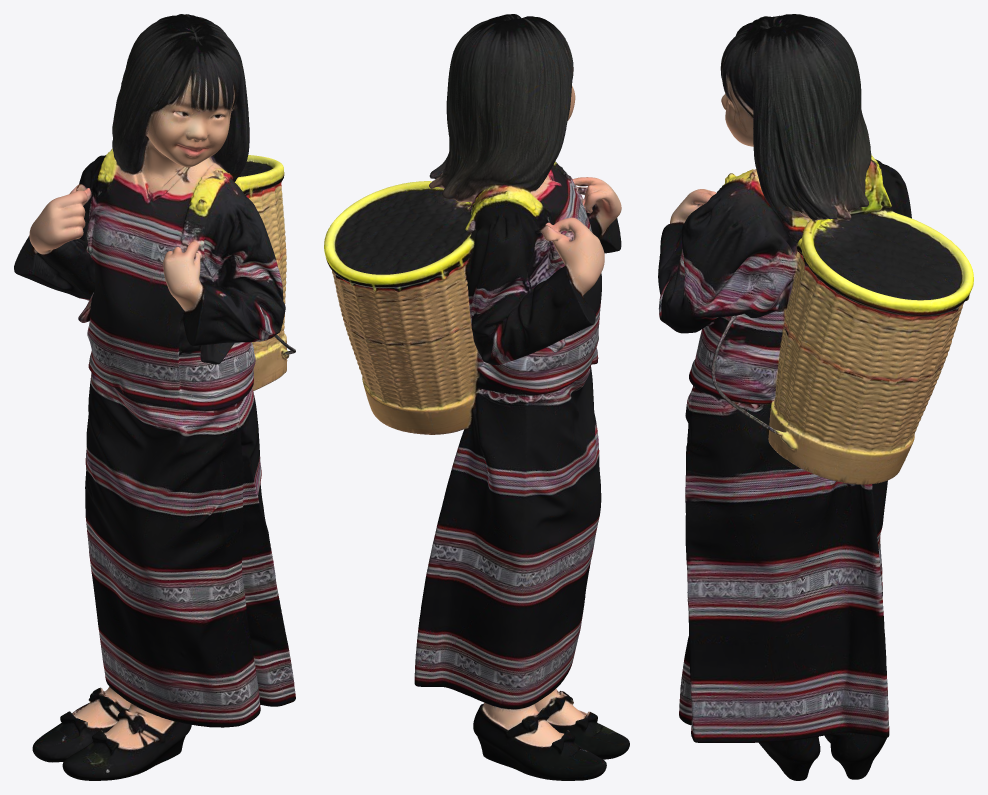
File: Tuongraglai.glb
3 views of the same model, side by side, from view 1: azimuth 30°, elevation 25°; view 2: azimuth 150°, elevation 25°; view 3: azimuth 270°, elevation 25° (orthographic). The views are drawn at different scales.
Visible parts, largest first — view 1: Mesh_0.001; view 2: Mesh_0.001; view 3: Mesh_0.001.
Part boxes in pixels (x1,y1,x2,y2): Mesh_0.001: (14,14,295,780); Mesh_0.001: (324,14,629,780); Mesh_0.001: (658,14,973,780).
Size of the model in its own units: 0.563 by 1.5 by 0.5625.
1 material, 1 textured.
